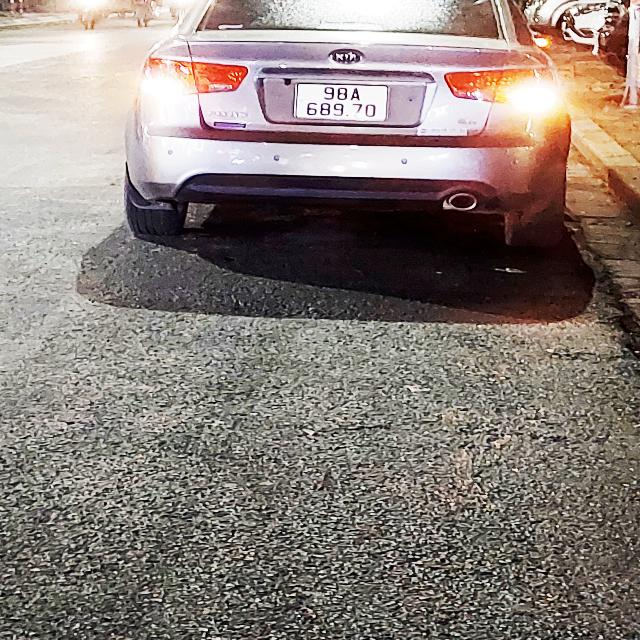license_plate: (293, 80, 394, 129)
